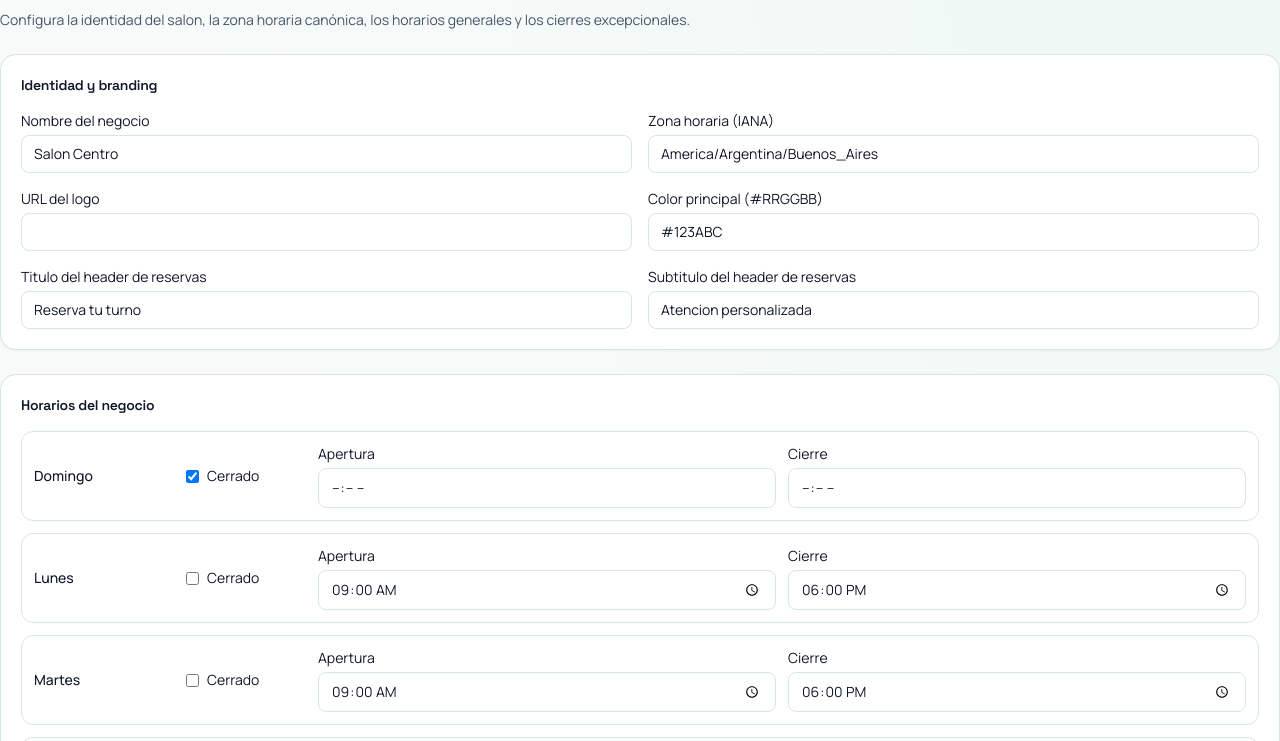
Test: BusinessSettingsPage › saves business identity and weekly hours
Replace the text in the field labelled "Nombre del negocio" with "Salon Norte" at (326, 154), box 21,135 -> 632,173
(page scrolled)
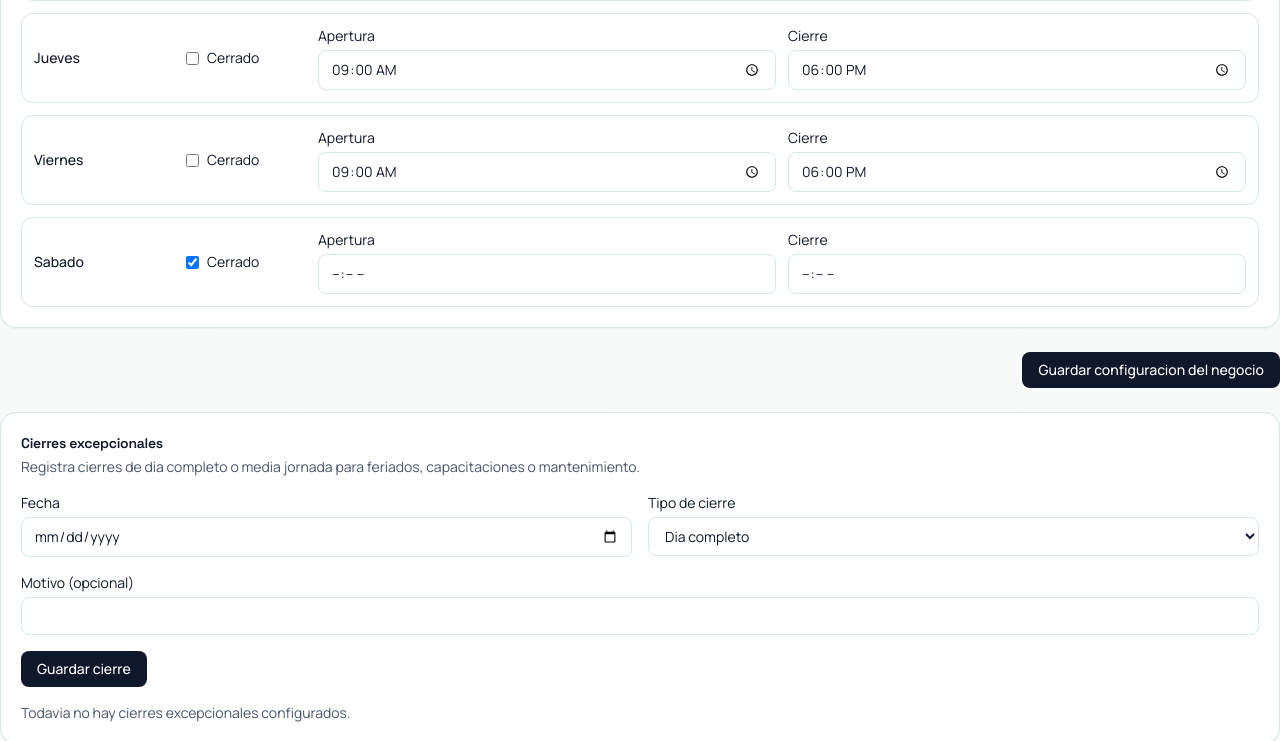
Click the button "Guardar configuracion del negocio" at (1151, 370), box 1022,352 -> 1279,388
(page scrolled)
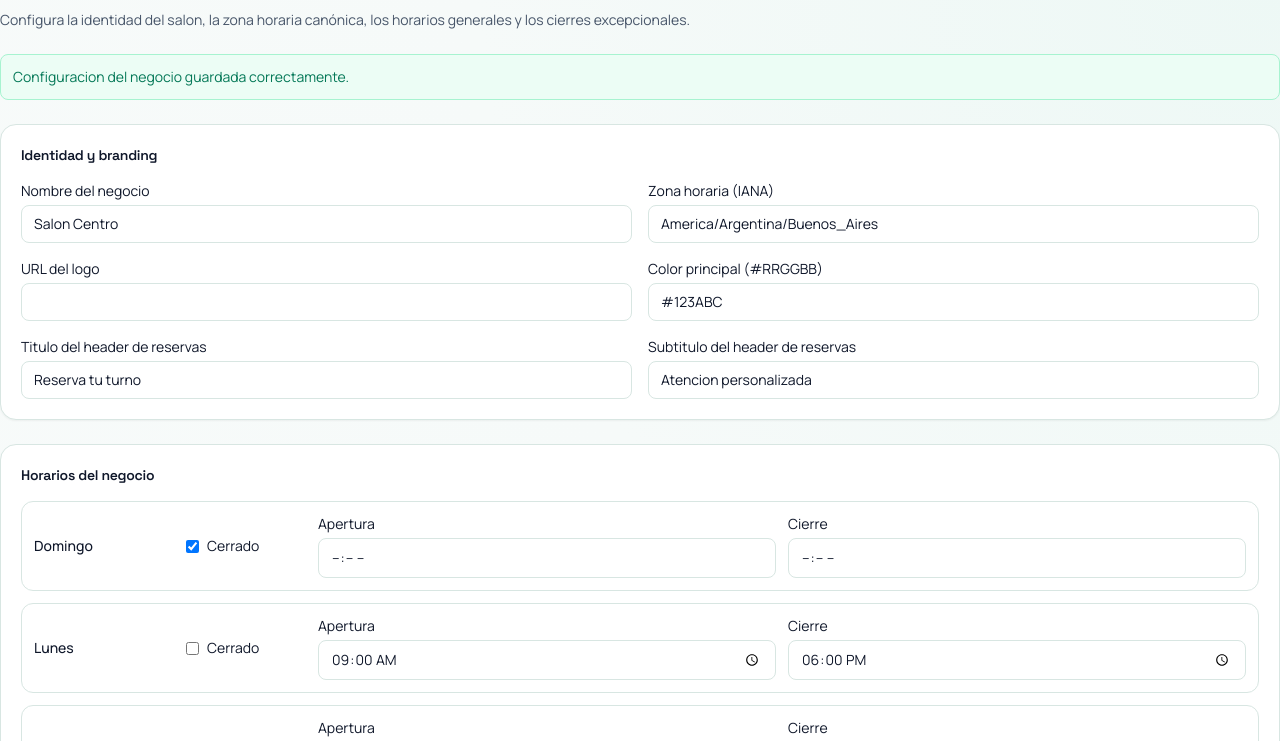
Expected: the text "Configuracion del negocio guardada correctamente." is shown, 0,54 -> 1279,100
